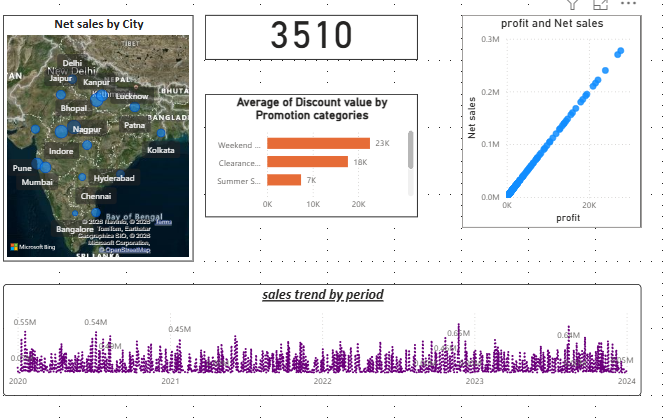

The page's visual inventory and layout, read from the dashboard file:
{"tool":"powerbi","page":{"name":"overview","canvas":[1280,720],"ordinal":0},"visuals":[{"type":"lineChart","title":"sales trend by period","fields":{"Y":["Sum(fact table.Net sales)"],"Category":["fact table.Date (dd/mm/yyyy).Variation.Date Hierarchy.Year"]},"box":[16,416,912,160],"z":0},{"type":"scatterChart","fields":{"X":["fact table.profit"],"Y":["fact table.Net sales"]},"box":[672,32,256,304],"z":1000},{"type":"barChart","title":"Average of Discount value by Promotion categories","fields":{"Y":["Avg(fact table.Discount value.1)"],"Category":["Dim Promotion.Promotion Name"]},"box":[304,144,304,176],"z":2000},{"type":"map","fields":{"Category":["Dim Customers.City"],"Size":["Sum(fact table.Net sales)"]},"box":[16,32,272,352],"z":3000},{"type":"card","fields":{"Values":["Count(fact table.order id)"]},"box":[304,32,304,64],"z":4000}]}

Visuals, with their boxes on the page's 1280x720 design canvas (x1, y1, x2, y2). These are canvas units, not pixel positions in the 663x418 screenshot, which may show the page scaled, cropped or inside an application window:
"sales trend by period" lineChart: detection(16, 416, 928, 576)
scatterChart - fact table.profit x fact table.Net sales: detection(672, 32, 928, 336)
"Average of Discount value by Promotion categories" barChart: detection(304, 144, 608, 320)
map - Dim Customers.City x Sum(fact table.Net sales): detection(16, 32, 288, 384)
card - Count(fact table.order id): detection(304, 32, 608, 96)
